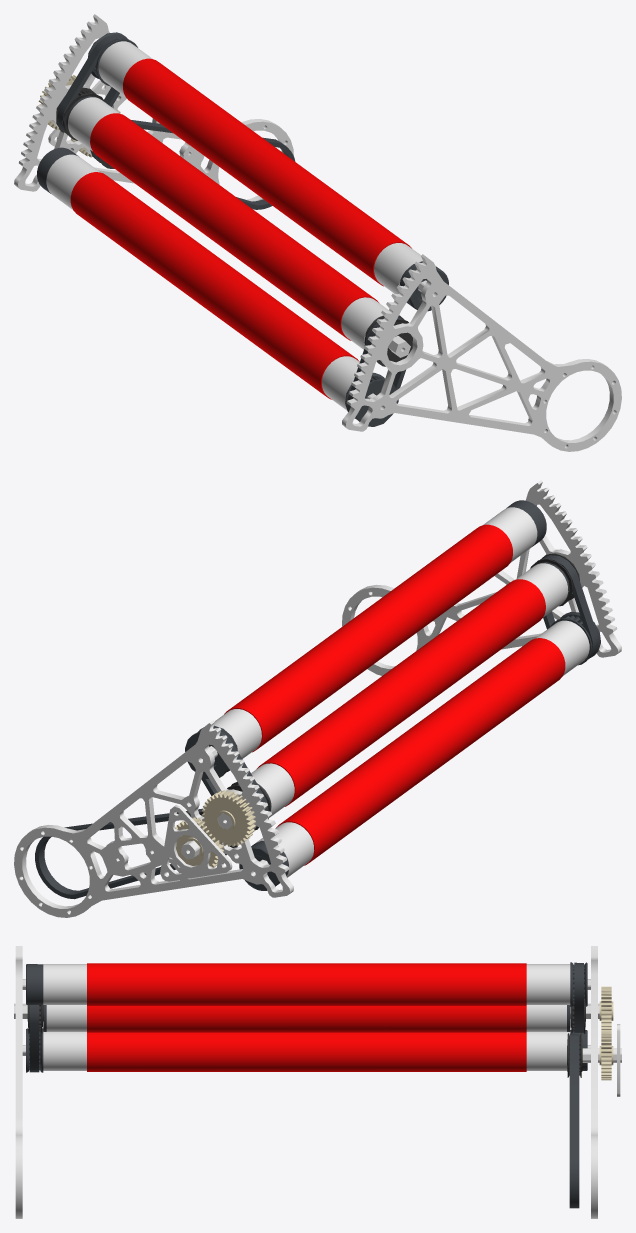
File: 1114-hood.glb
3 renders of one model, top to bottom at view 1: azimuth 30°, elevation 25°; view 2: azimuth 150°, elevation 25°; view 3: azimuth 270°, elevation 25°, orthographic. The views are drawn at different scales.
Visible parts, largest first — view 1: Part 102, S26-SH-P045, 45T HTD, 24t Aluminum Pulley (HTD 5mm, 9mm Wide, 1/2" Hex Bore); view 2: Part 102, S26-SH-P045, 45T HTD, 34t Aluminum Spur Gear (20 DP, 1/2" Hex Bore), 24t Aluminum Pulley (HTD 5mm, 9mm Wide, 1/2" Hex Bore); view 3: Part 102, S26-SH-P045, 45T HTD, 34t Aluminum Spur Gear (20 DP, 1/2" Hex Bore), 24t Aluminum Pulley (HTD 5mm, 9mm Wide, 1/2" Hex Bore).
Part boxes in pixels (x1=…): Part 102: x1=70, y1=58, x2=411, y2=399; S26-SH-P045: x1=14, y1=14, x2=621, y2=451; 45T HTD: x1=37, y1=32, x2=448, y2=426; 24t Aluminum Pulley (HTD 5mm, 9mm Wide, 1/2" Hex Bore): x1=56, y1=87, x2=412, y2=366; Part 102: x1=224, y1=524, x2=565, y2=865; S26-SH-P045: x1=14, y1=480, x2=621, y2=917; 45T HTD: x1=35, y1=500, x2=600, y2=899; 34t Aluminum Spur Gear (20 DP, 1/2" Hex Bore): x1=175, y1=790, x2=255, y2=867; 24t Aluminum Pulley (HTD 5mm, 9mm Wide, 1/2" Hex Bore): x1=199, y1=553, x2=579, y2=855; Part 102: x1=87, y1=963, x2=526, y2=1071; S26-SH-P045: x1=14, y1=946, x2=621, y2=1218; 45T HTD: x1=26, y1=962, x2=587, y2=1208; 34t Aluminum Spur Gear (20 DP, 1/2" Hex Bore): x1=599, y1=986, x2=613, y2=1080; 24t Aluminum Pulley (HTD 5mm, 9mm Wide, 1/2" Hex Bore): x1=27, y1=1004, x2=585, y2=1077.
Size of the model in its own units: 0.2588 by 0.2072 by 0.5623.
